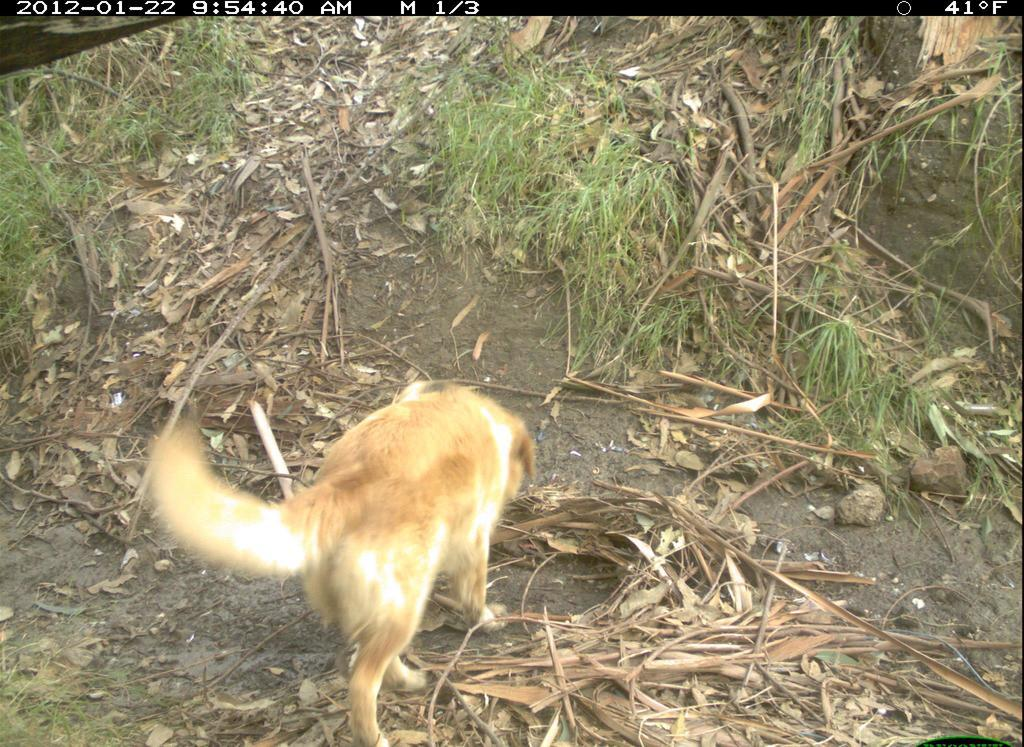dog: (132, 358, 570, 745)
